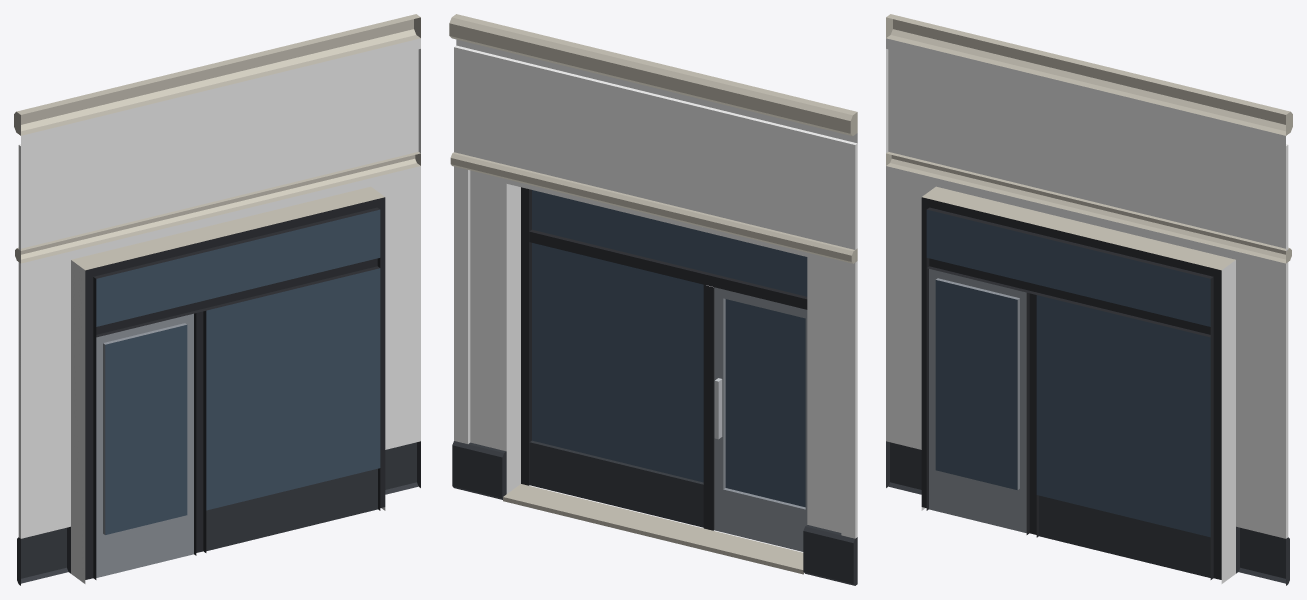
File: shop_door.glb
The picture shows the model from 3 angles, left to right: view 1: azimuth 30°, elevation 25°; view 2: azimuth 150°, elevation 25°; view 3: azimuth 330°, elevation 25°; orthographic projection.
Parts seen in each view (by area): view 1: shop_door__mesh; view 2: shop_door__mesh; view 3: shop_door__mesh.
Boxes of the visible parts, x1,y1,x2,y2 form: shop_door__mesh: [14, 14, 420, 585]; shop_door__mesh: [449, 14, 857, 585]; shop_door__mesh: [886, 14, 1292, 585].
Size of what is drawn, in the model's own units: 4 by 4.5 by 0.42.
Materials: 2 (1 with a texture image).
